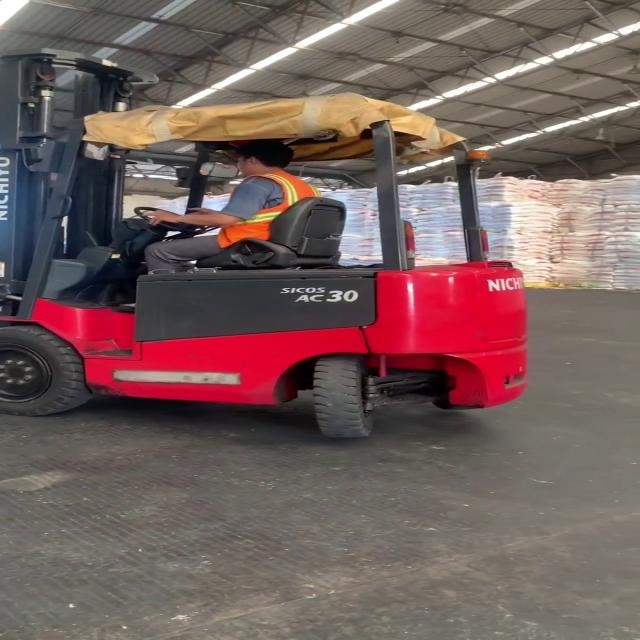Box: (327, 180, 640, 296)
ForkLift: (9, 49, 529, 440)
Human: (138, 134, 323, 278)
